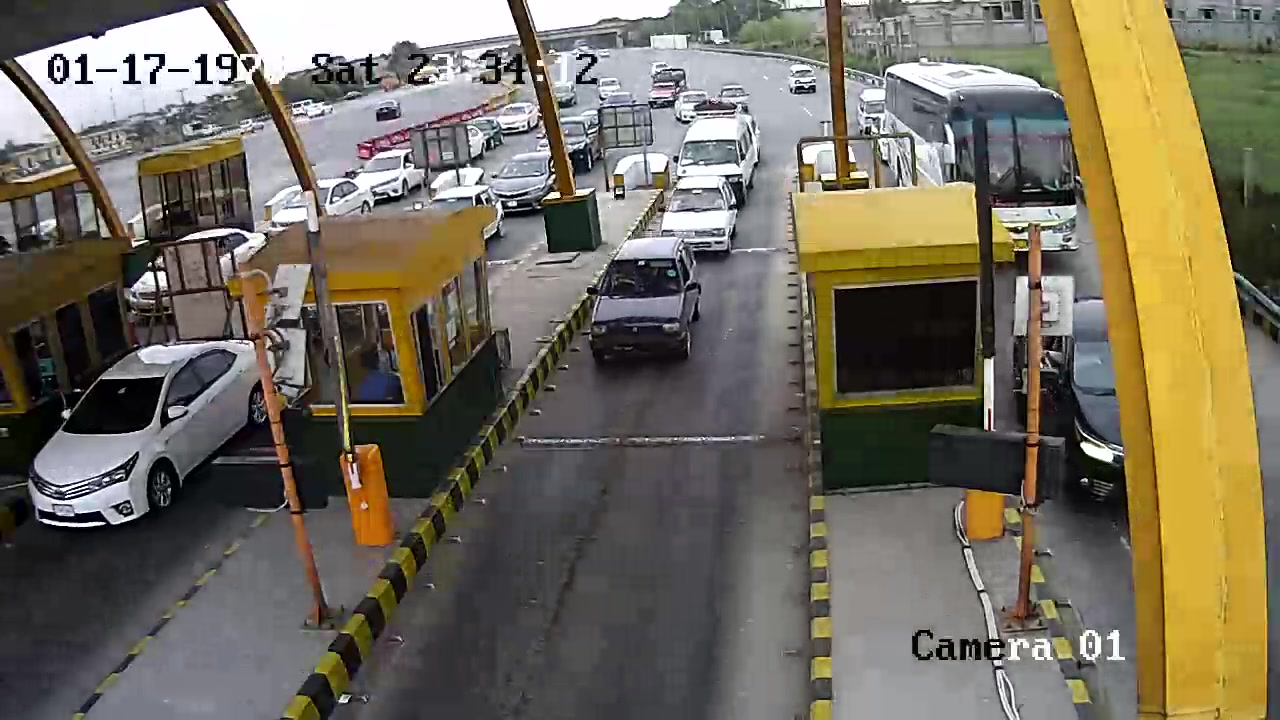F1: (589, 236, 705, 365)
